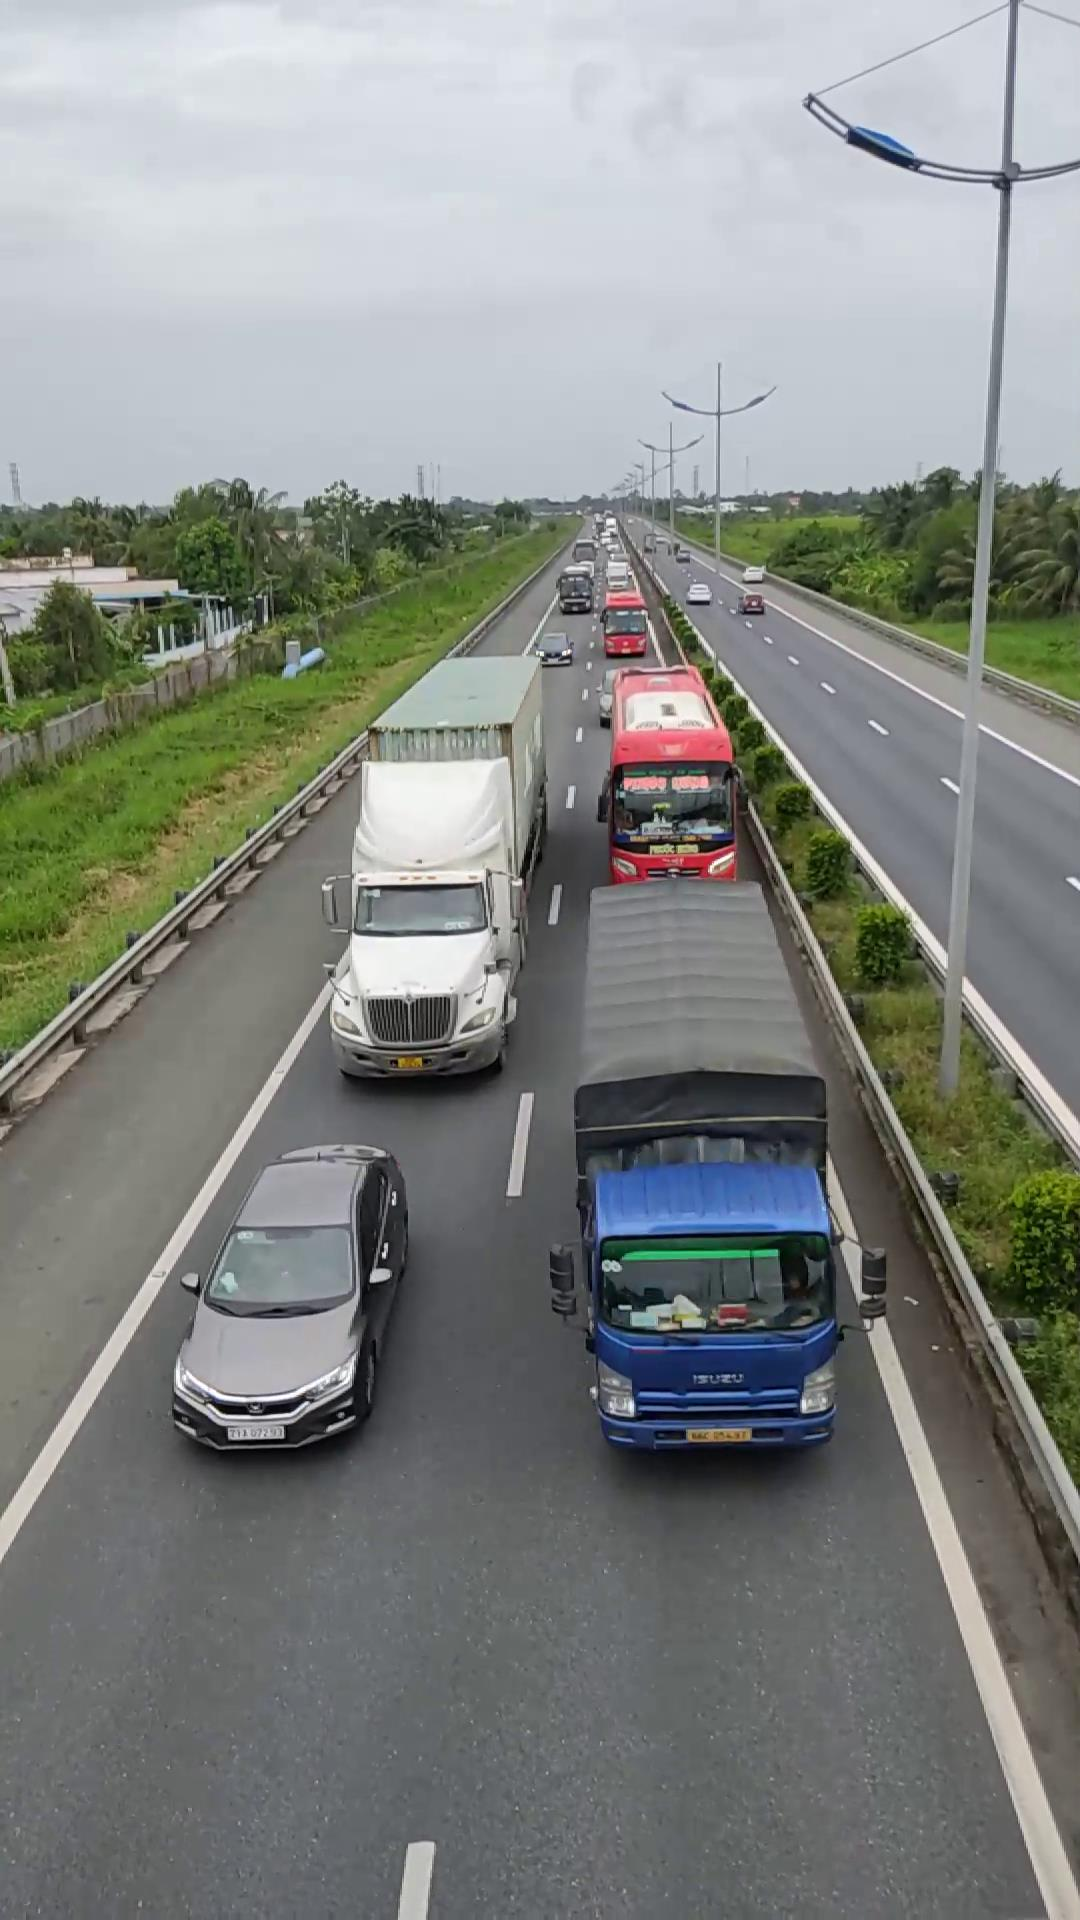car: (167, 1142, 413, 1448)
container: (324, 647, 551, 1084), (597, 658, 745, 878)
truck: (551, 898, 858, 1458)
